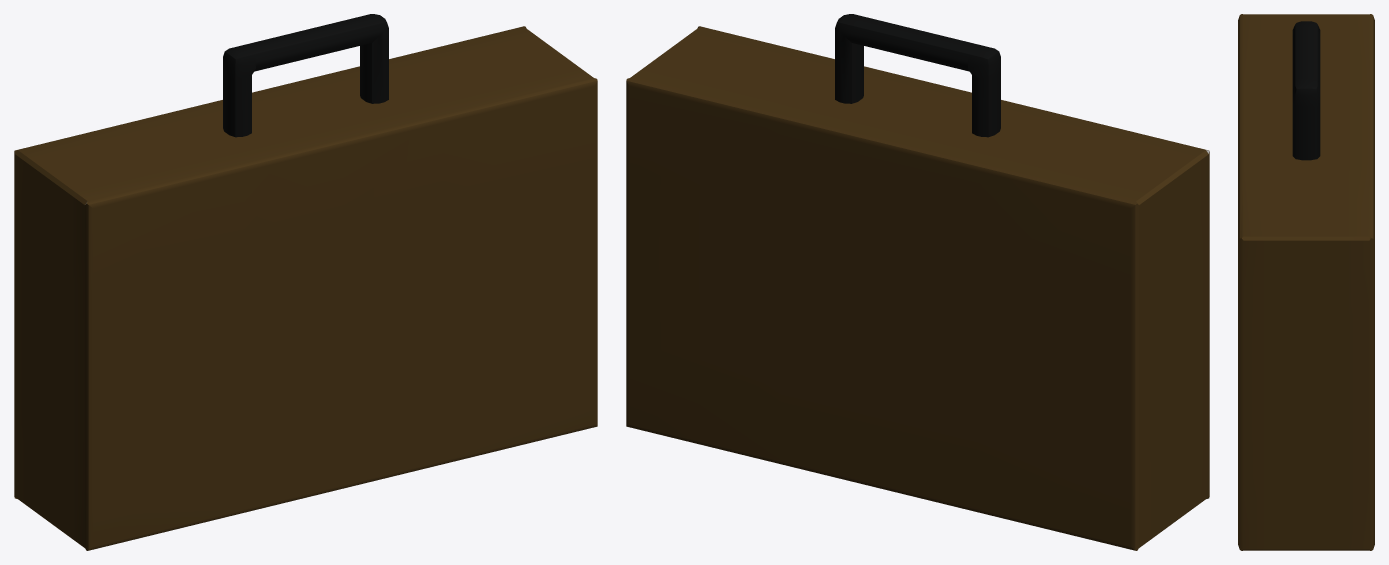
File: suitcase.fbx
3 renders of one model, left to right at view 1: azimuth 30°, elevation 25°; view 2: azimuth 150°, elevation 25°; view 3: azimuth 270°, elevation 25°, orthographic. The views are drawn at different scales.
Parts seen in each view (by area): view 1: pCube1; view 2: pCube1; view 3: pCube1.
Boxes of the visible parts, bbox=[...] form: pCube1: bbox=[14, 14, 597, 550]; pCube1: bbox=[626, 14, 1209, 550]; pCube1: bbox=[1238, 14, 1374, 550].
Bounding box in the file's own units: 3.2 × 2.57 × 0.8226.
